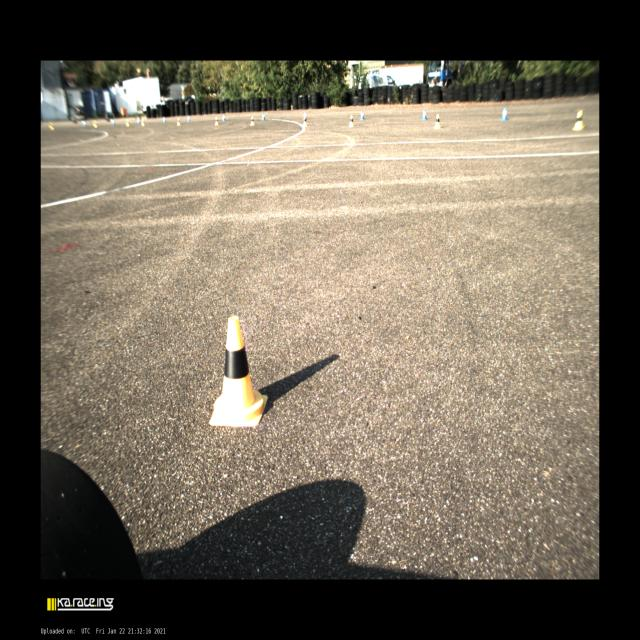blue_cone: (501, 106, 508, 120), (422, 109, 428, 120), (261, 112, 266, 120), (303, 111, 307, 120), (360, 110, 364, 119), (162, 116, 166, 124), (222, 114, 226, 121), (187, 115, 190, 122)
yellow_cone: (208, 316, 268, 426), (572, 110, 584, 131), (433, 114, 441, 128), (348, 115, 354, 127), (303, 116, 307, 127), (250, 116, 254, 126), (214, 117, 218, 126), (141, 118, 145, 126), (177, 117, 180, 126)
